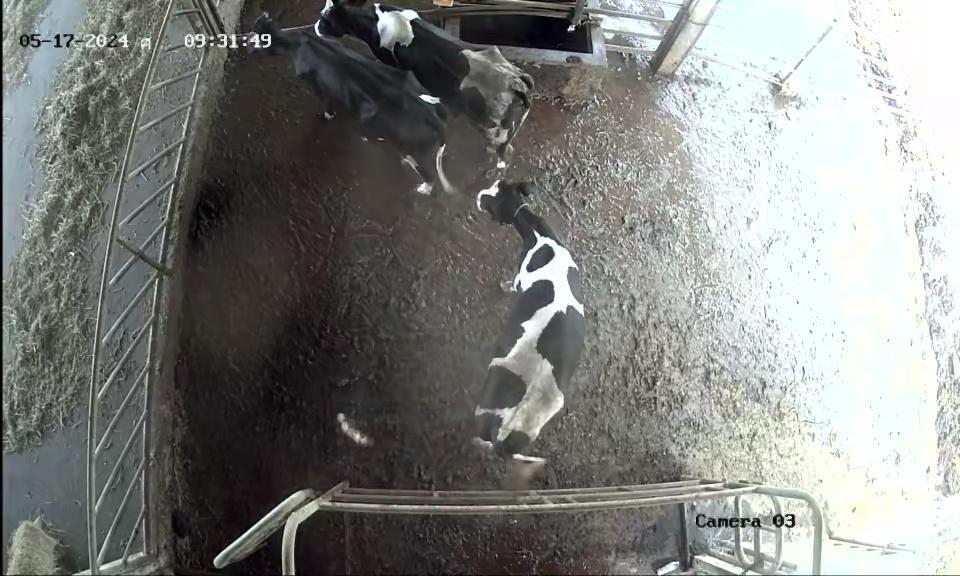stand: (466, 164, 598, 486), (244, 13, 456, 203), (323, 0, 530, 157)
